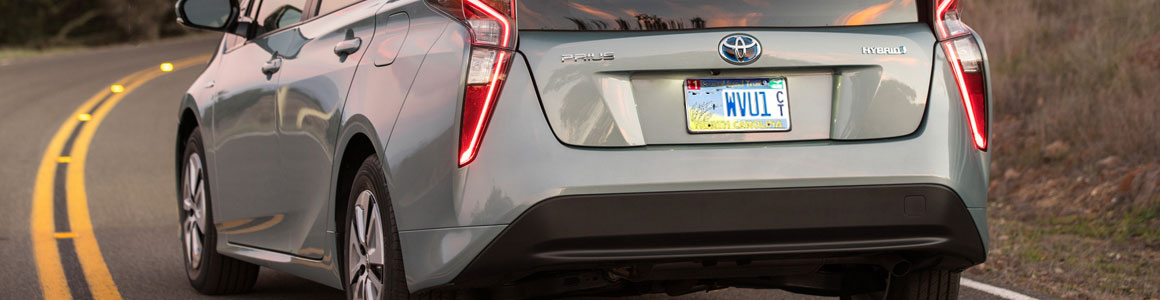license plate: (680, 76, 797, 135)
